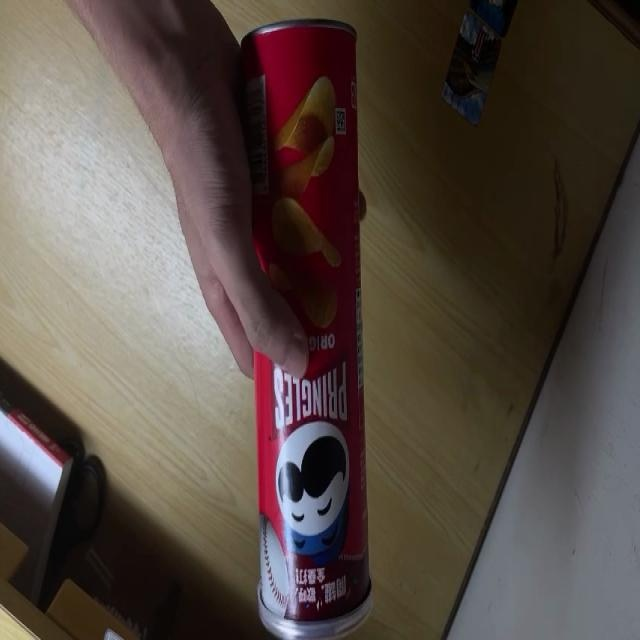Pringles: (238, 17, 374, 640)
